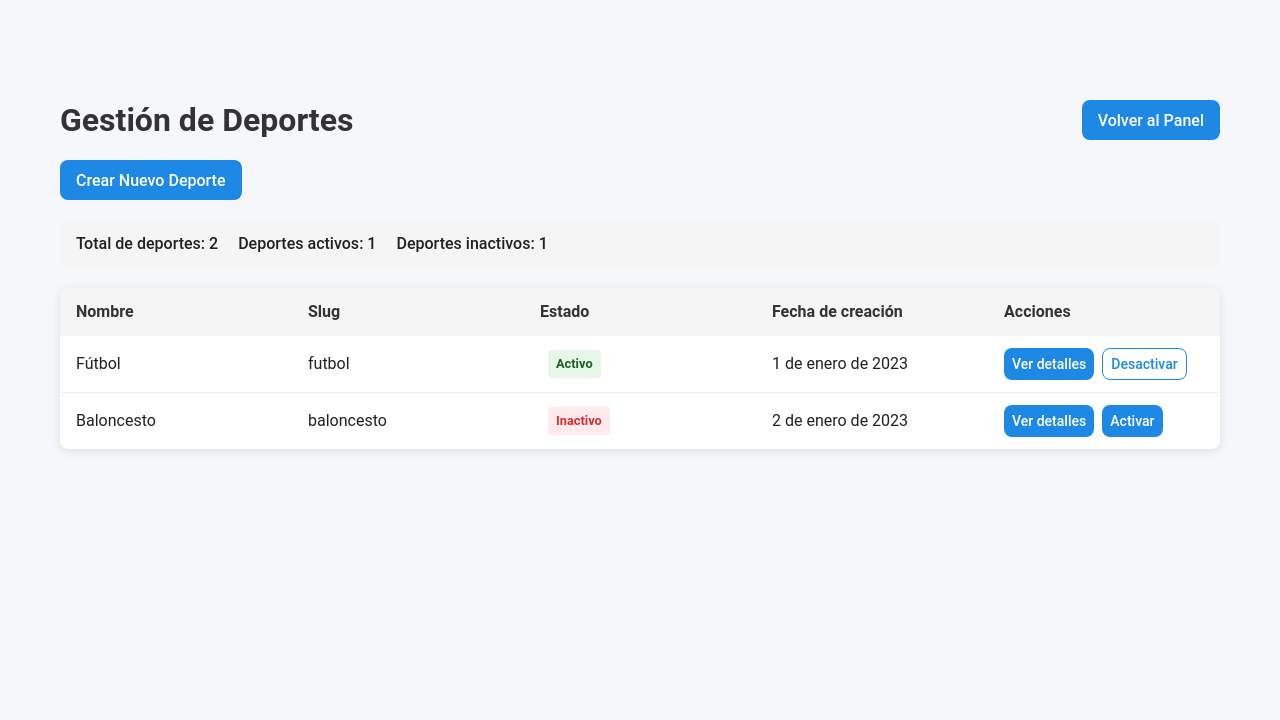
Test: SportsList Component › shows create form when clicking on Crear Nuevo Deporte
Note: Hacer clic en el botón de crear nuevo deporte
Click the button "Crear Nuevo Deporte" at (151, 180), box [60,160,242,200]
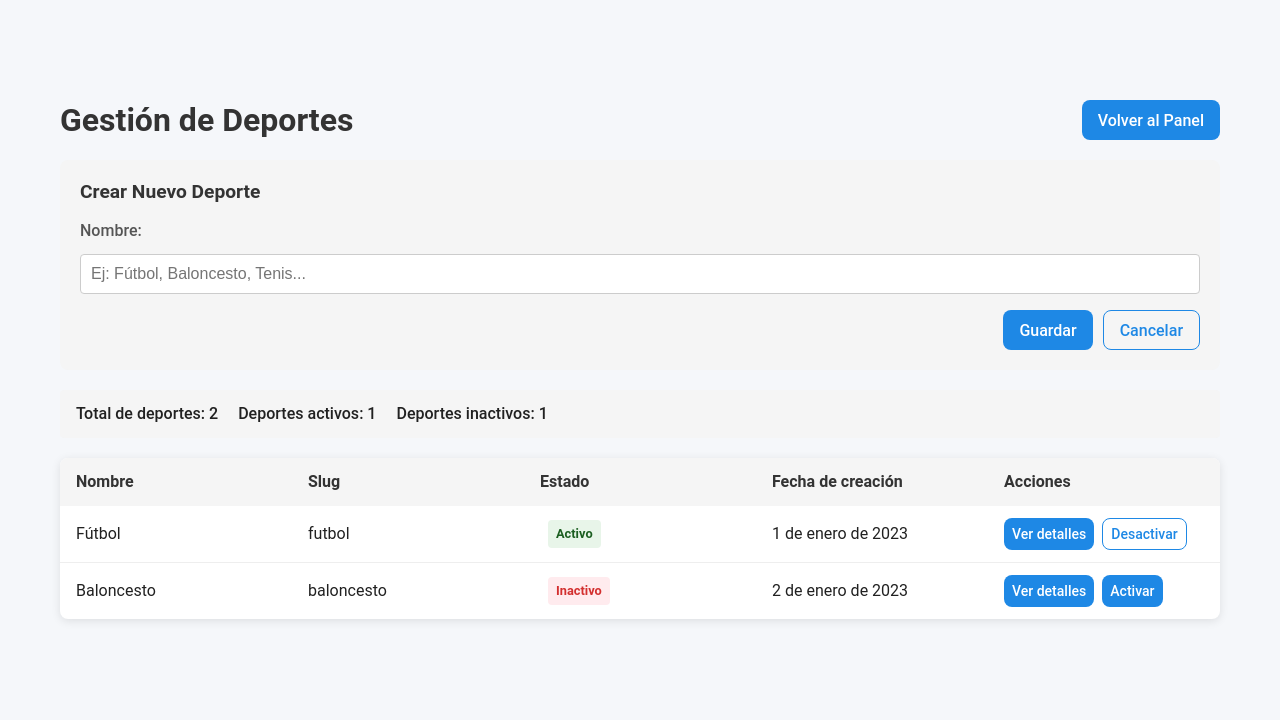
Expected: the field labelled "Nombre:" is shown, [80,254,1200,294]
Expected: the button "Guardar" is shown, [1003,310,1093,350]
Expected: the button "Cancelar" is shown, [1103,310,1200,350]
